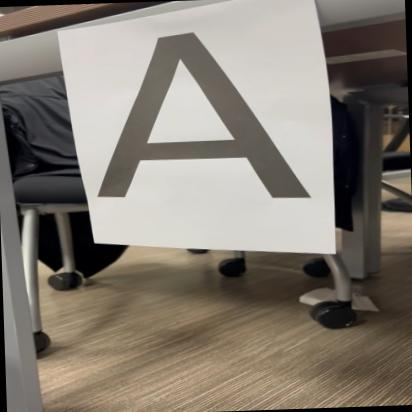seat: (82, 26, 327, 218)
